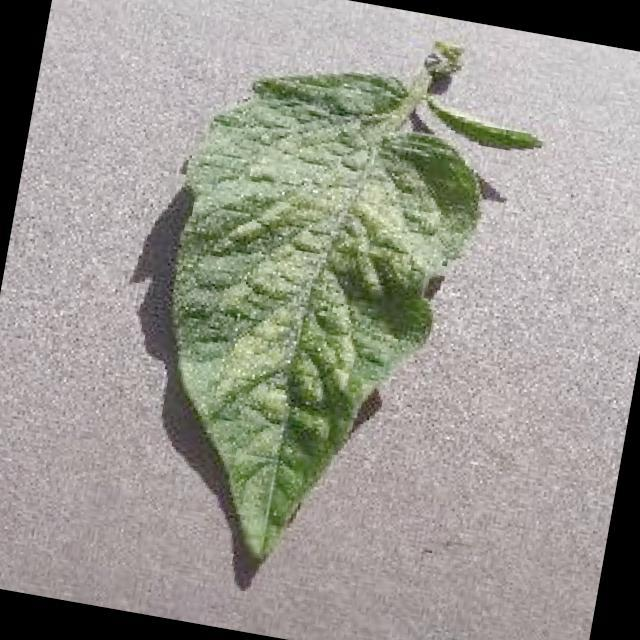Tomato spider mites leaf: (116, 40, 504, 592)
